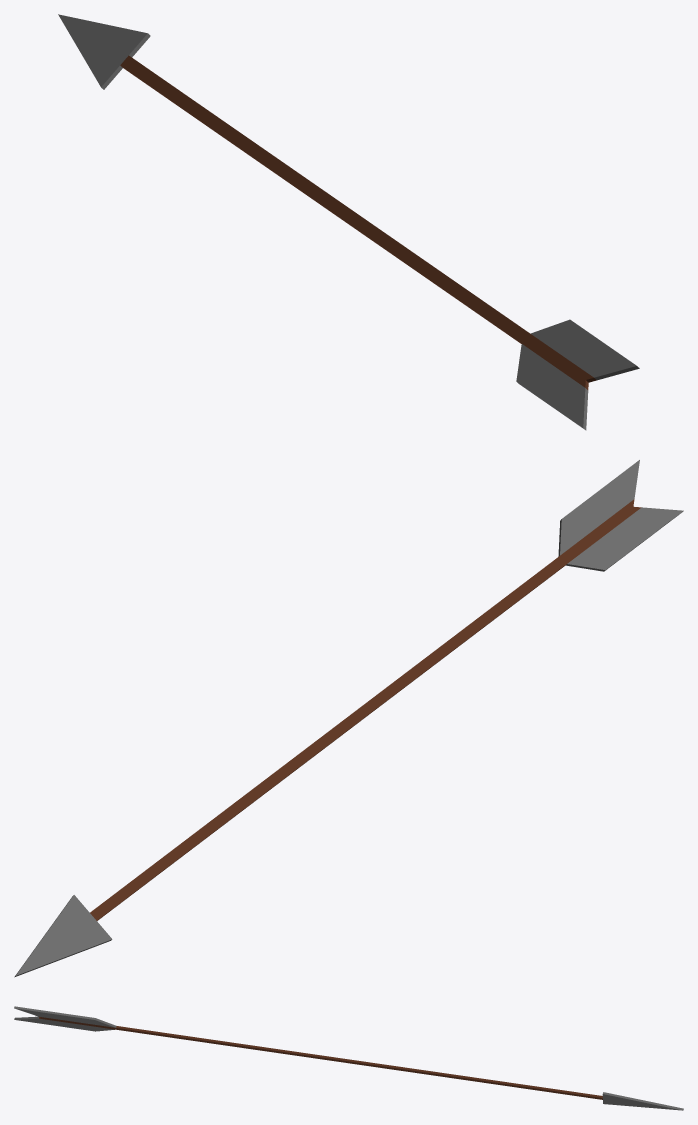
File: fleche.fbx
The picture shows the model from 3 angles, top to bottom: view 1: azimuth 30°, elevation 25°; view 2: azimuth 150°, elevation 25°; view 3: azimuth 270°, elevation 25°; orthographic projection. The views are drawn at different scales.
Parts seen in each view (by area): view 1: fleche; view 2: fleche; view 3: fleche.
Boxes of the visible parts, left/top/right/bottom form: fleche: left=58, top=14, right=639, bottom=430; fleche: left=14, top=460, right=683, bottom=977; fleche: left=14, top=1006, right=683, bottom=1110.
Bounding box in the file's own units: 254 × 263 × 1895.
